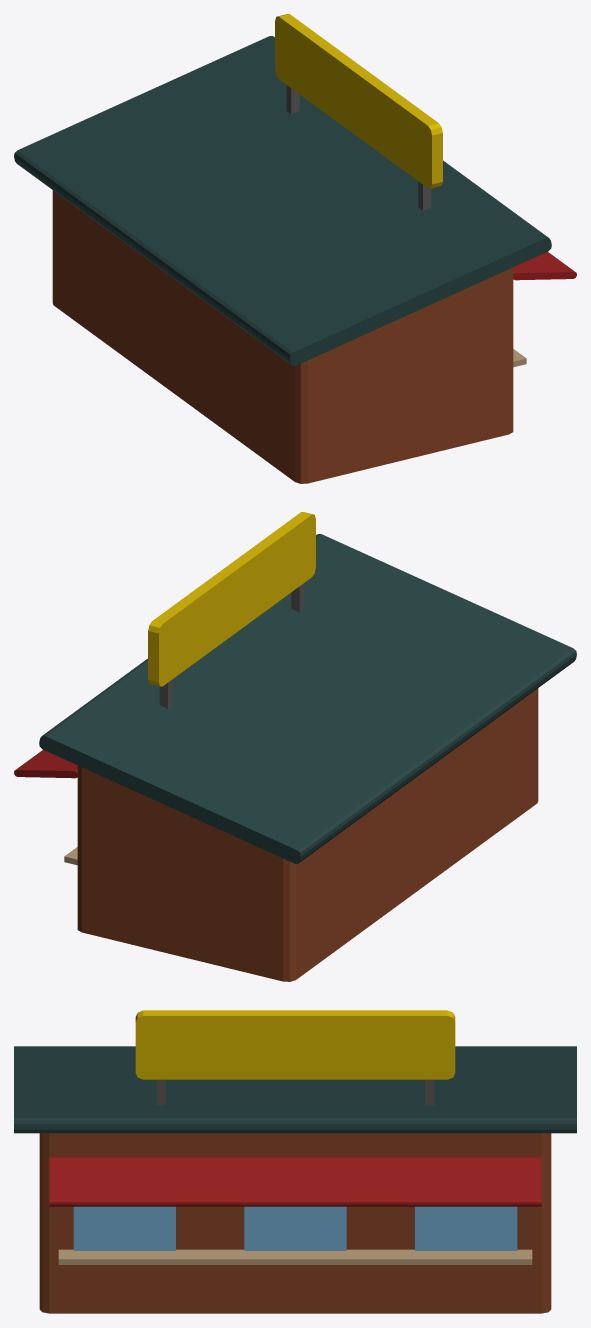
Rendered from ticket_office.obj.
The picture shows the model from 3 angles, top to bottom: view 1: azimuth 30°, elevation 25°; view 2: azimuth 150°, elevation 25°; view 3: azimuth 270°, elevation 25°; orthographic projection.
Size of the model in its own units: 5.6 by 4.9 by 8.8.
